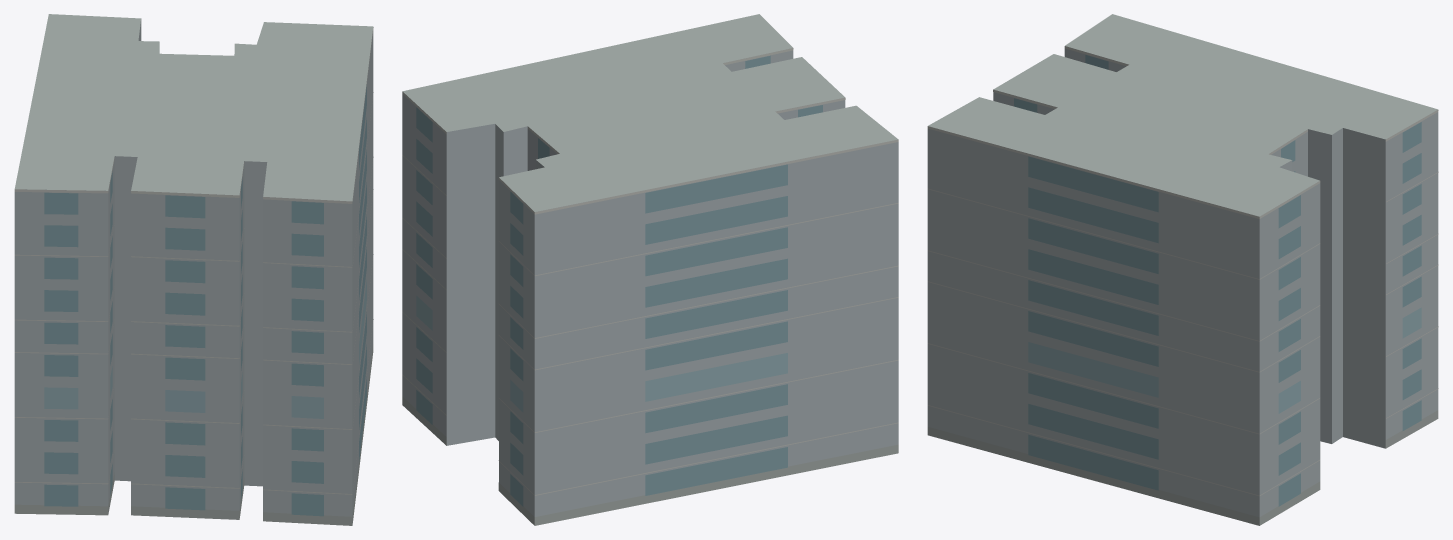
Rendered from survey-upis-32930699.glb.
3 views of the same model, side by side, from view 1: azimuth 30°, elevation 25°; view 2: azimuth 150°, elevation 25°; view 3: azimuth 270°, elevation 25° (orthographic). The views are drawn at different scales.
Visible parts, largest first — view 1: survey-upis-32930699.tmp; view 2: survey-upis-32930699.tmp; view 3: survey-upis-32930699.tmp.
Part boxes in pixels (box(x1,y1,x2,y2)): survey-upis-32930699.tmp: box(14, 14, 373, 525); survey-upis-32930699.tmp: box(402, 14, 898, 525); survey-upis-32930699.tmp: box(927, 14, 1438, 525).
Bounding box in the file's own units: 42.9 × 30.5 × 45.68.
